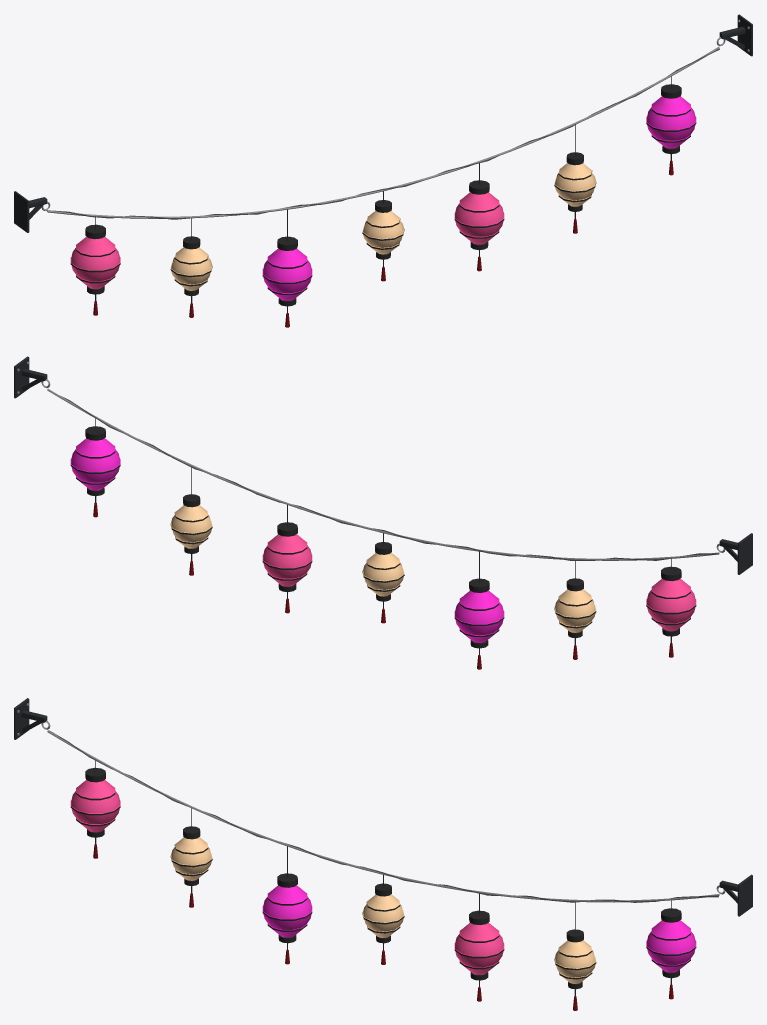
File: Lantern_String_4m.fbx
The picture shows the model from 3 angles, top to bottom: view 1: azimuth 30°, elevation 25°; view 2: azimuth 150°, elevation 25°; view 3: azimuth 330°, elevation 25°; orthographic projection.
Parts seen in each view (by area): view 1: Lantern_String_4m_LOD0; view 2: Lantern_String_4m_LOD0; view 3: Lantern_String_4m_LOD0.
Part boxes in pixels (x1=…): Lantern_String_4m_LOD0: x1=14, y1=14, x2=752, y2=327; Lantern_String_4m_LOD0: x1=14, y1=356, x2=752, y2=669; Lantern_String_4m_LOD0: x1=14, y1=698, x2=752, y2=1010.
Size of what is drawn, in the model's own units: 4 by 1.03 by 0.2376.
